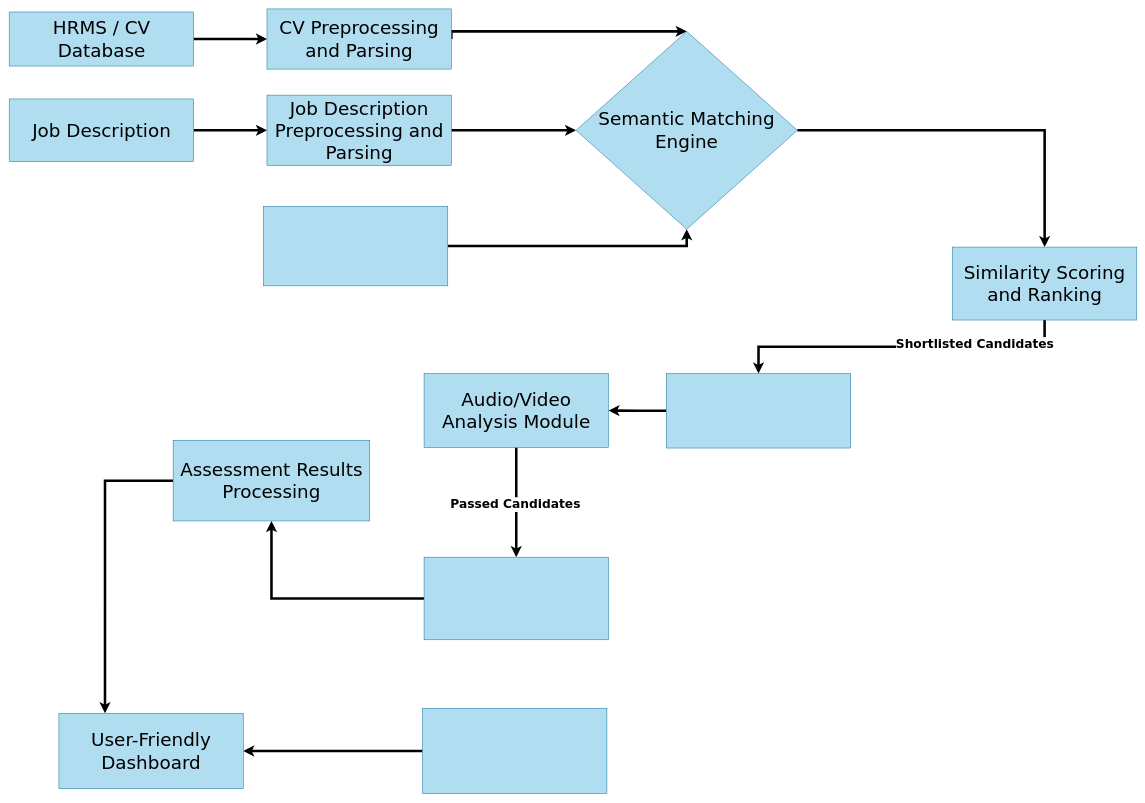
The diagram is 1145 pixels wide and 803 high, and some of its shapes have lost their labels. The shapes that lost their labels are listed below. From the top down, each one's centre as x and y in pixels, then its label:
(355,246): Open-Source AI/ NLP Model
(758,410): Candidate Audio/Video Input
(516,598): Gamified Assessment Platform
(514,751): HR Manager
